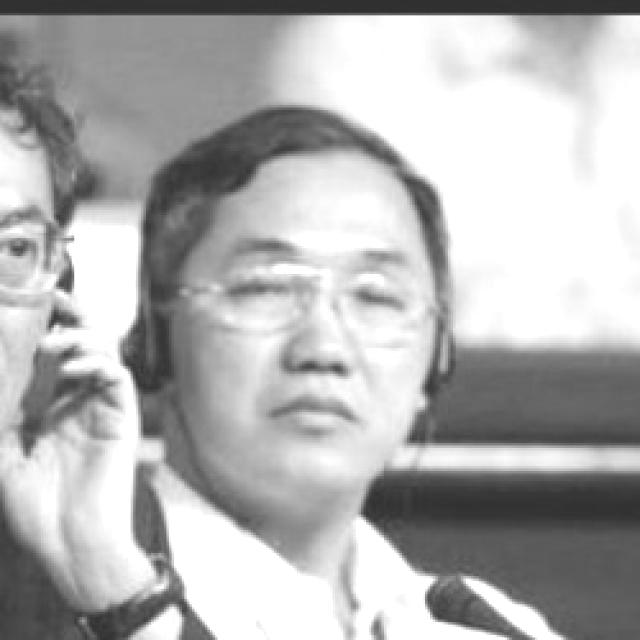real: (164, 136, 440, 518), (214, 254, 425, 332), (0, 203, 49, 280)
